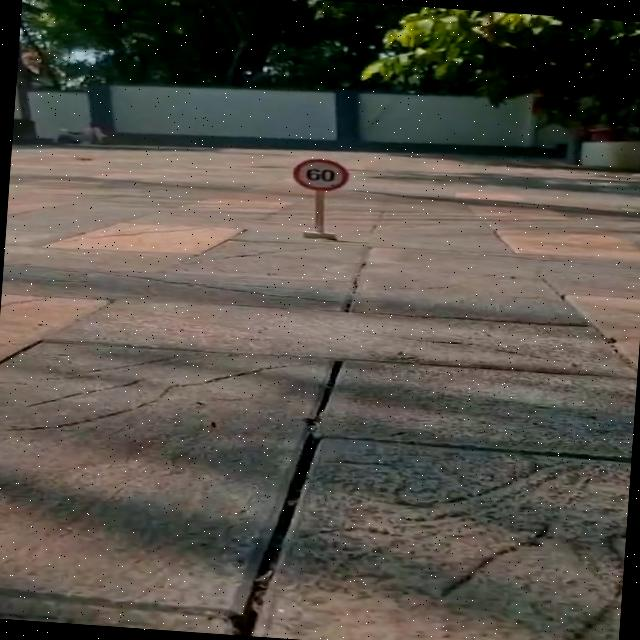Speed60: (278, 152, 366, 198)
